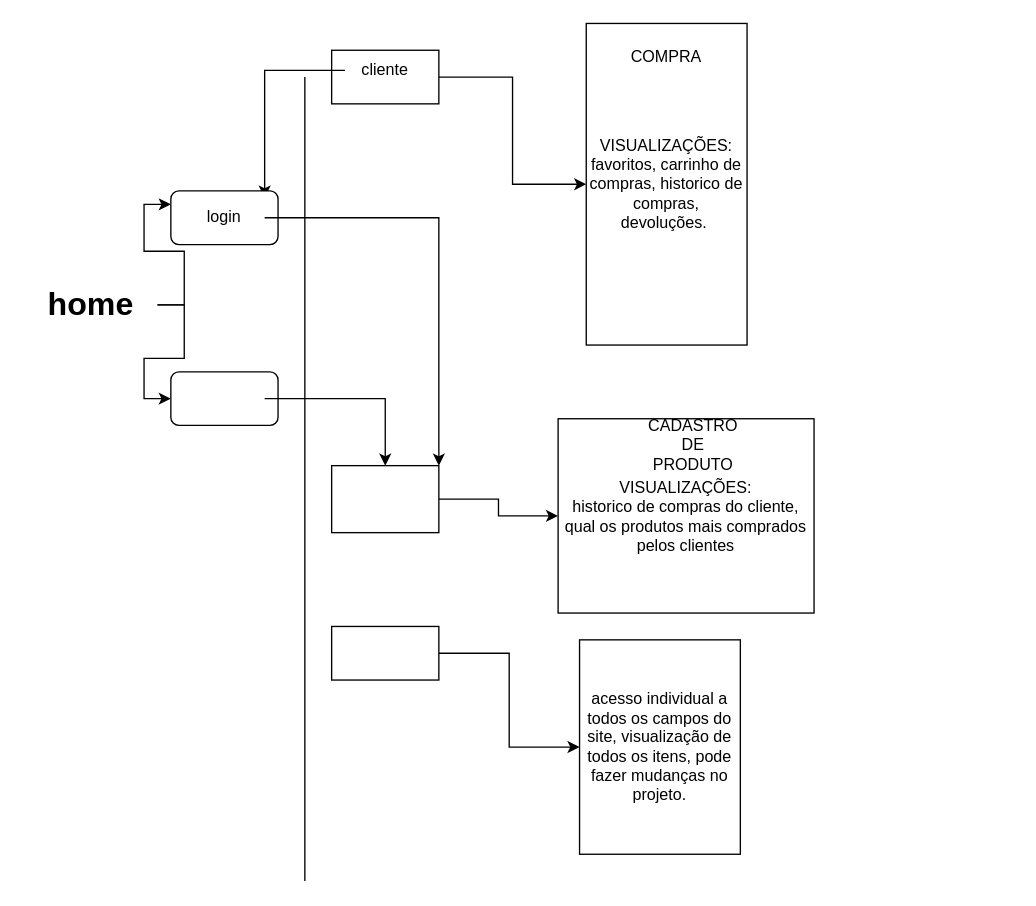
Some shapes in this 1036 by 906 pixel diagram are drawn without their labels. The shapes that lost their labels are listed below. From the top down, each one's centre as x and y in pixels, then its label:
point 224,398: cadastro
point 384,498: funcionario
point 384,652: ADM
